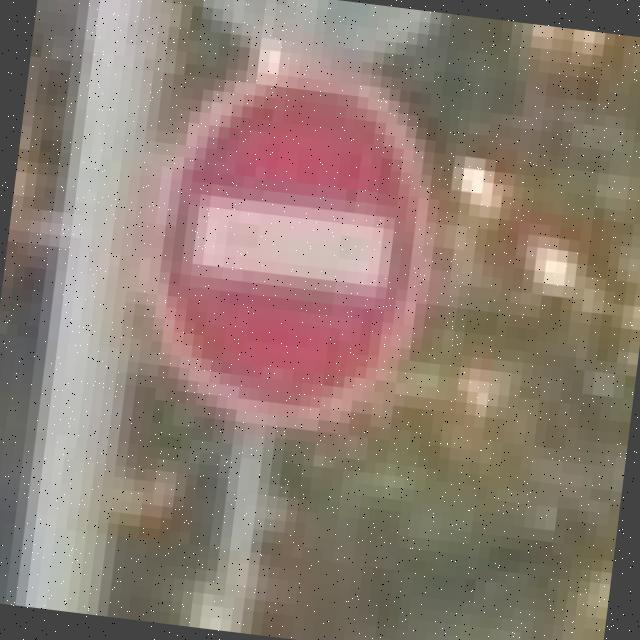Zakaz wjazdu: (122, 49, 453, 442)
